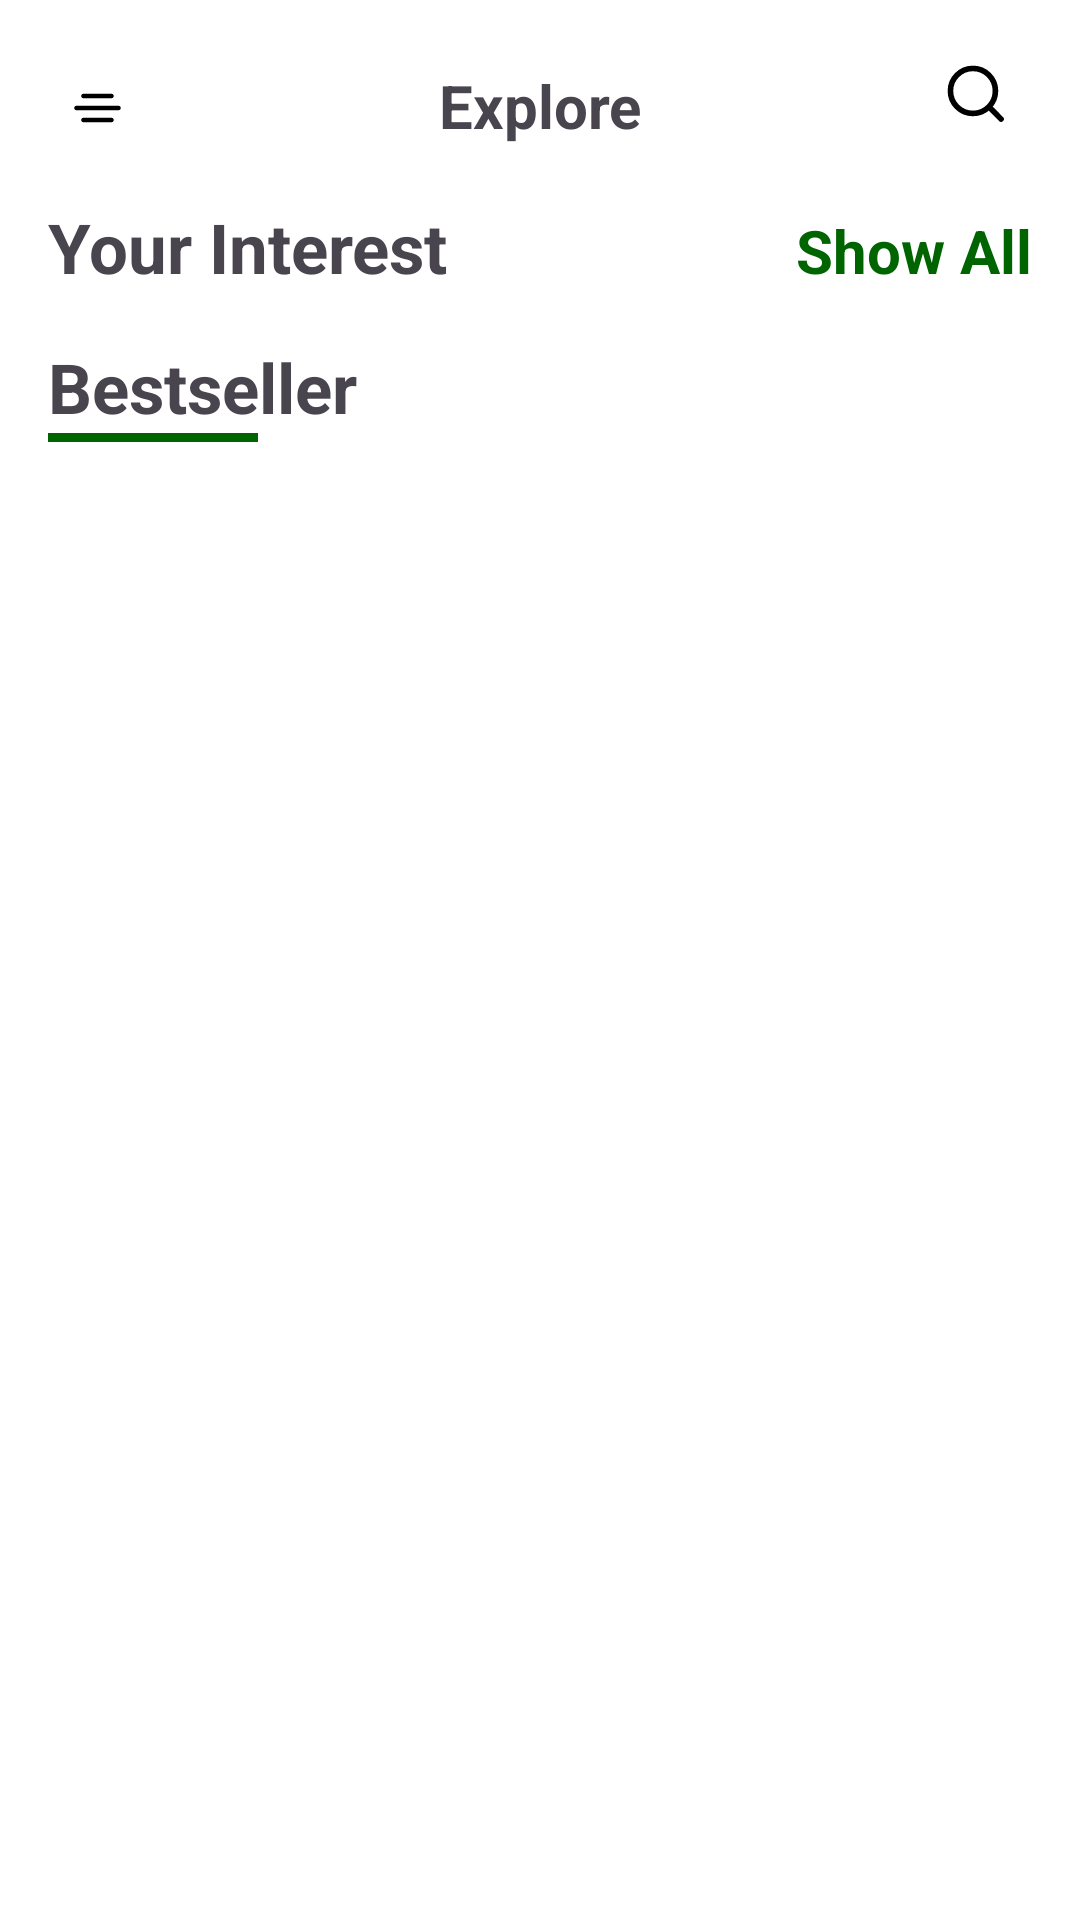

Icons on this 1080px×1920px Android screen, each with the point to tap as [x,y]:
menu: [97,108]
